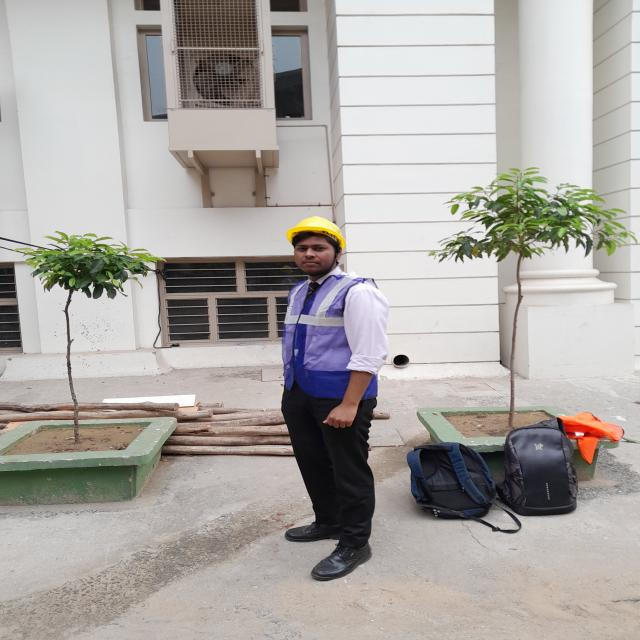safe: (281, 216, 390, 580)
